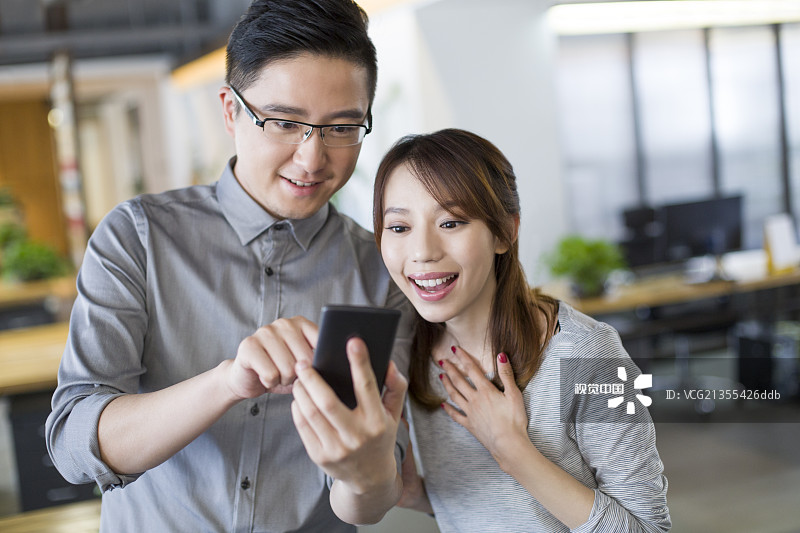no-phone: (423, 333, 553, 466)
reading: (202, 290, 425, 516)
